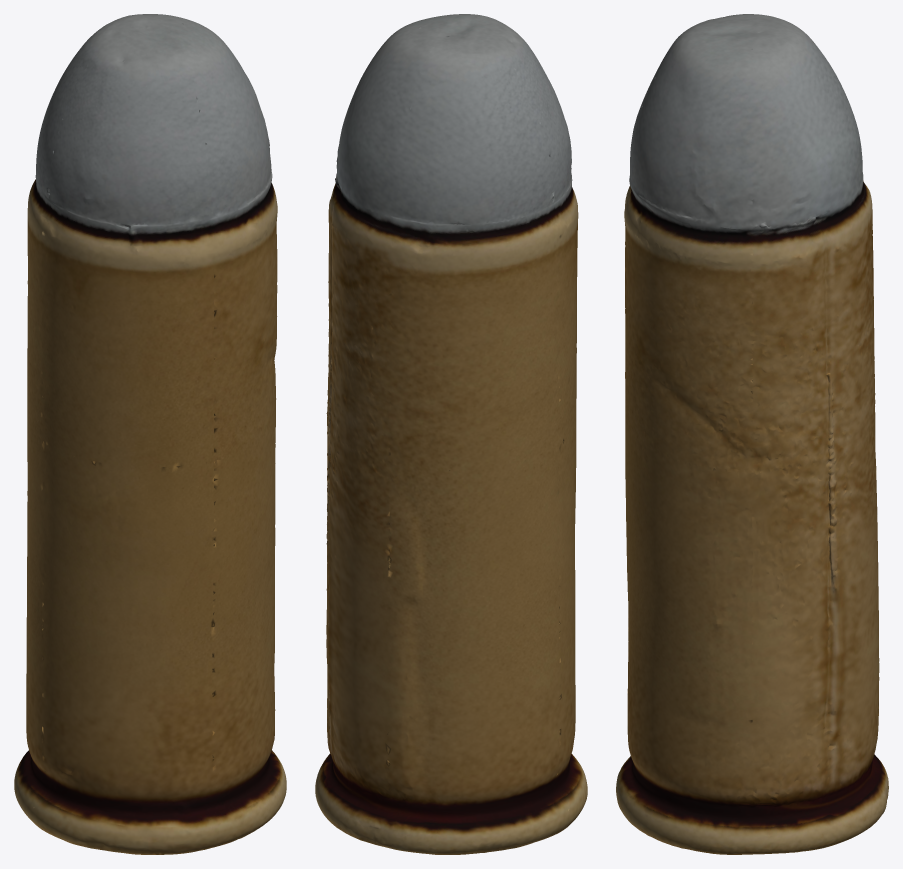
File: bala.fbx
3 renders of one model, left to right at view 1: azimuth 30°, elevation 25°; view 2: azimuth 150°, elevation 25°; view 3: azimuth 270°, elevation 25°, orthographic.
Visible parts, largest first — view 1: tripo_node_f83119fe; view 2: tripo_node_f83119fe; view 3: tripo_node_f83119fe.
Boxes of the visible parts, <box> form: tripo_node_f83119fe: <box>14,14,286,854</box>; tripo_node_f83119fe: <box>315,14,587,854</box>; tripo_node_f83119fe: <box>616,14,888,854</box>.
Size of the model in its own units: 0.32 by 1 by 0.3193.
Materials: 1 (1 with a texture image).
